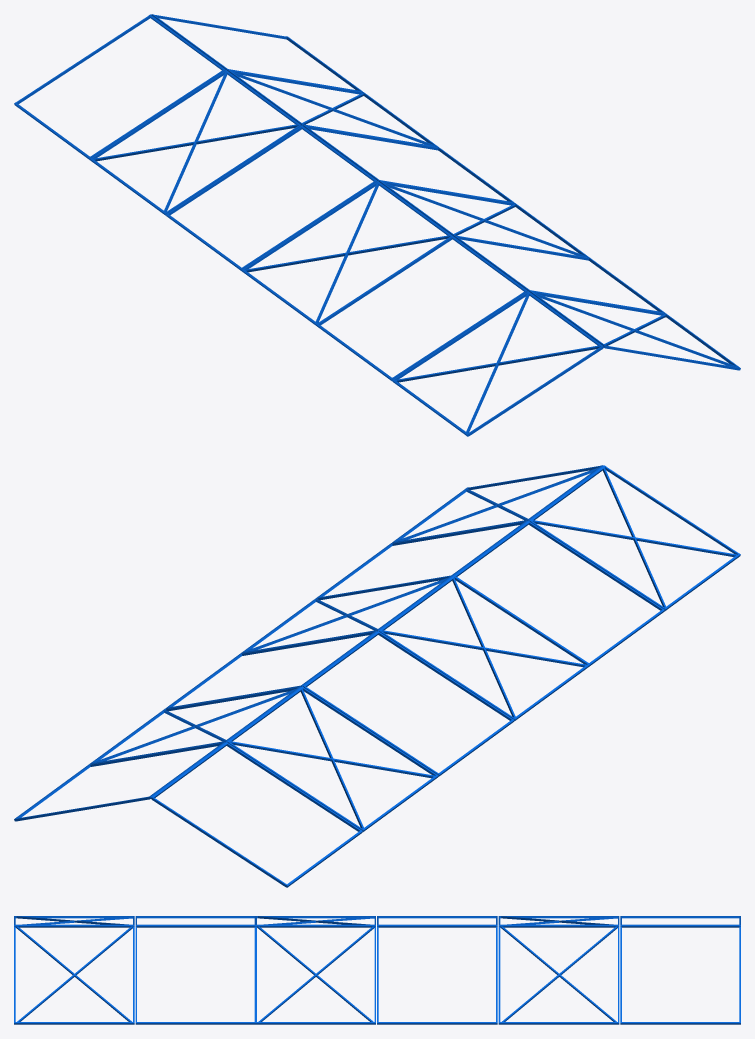
Rendered from F_01_Roof_Metal_01.fbx.
3 views of the same model, one above another, from view 1: azimuth 30°, elevation 25°; view 2: azimuth 150°, elevation 25°; view 3: azimuth 270°, elevation 25° (orthographic). The views are drawn at different scales.
Visible parts, largest first — view 1: F_01_Roof_Metal_01; view 2: F_01_Roof_Metal_01; view 3: F_01_Roof_Metal_01.
Part boxes in pixels (box(x1,y1,x2,y2)): F_01_Roof_Metal_01: box(14, 14, 740, 436); F_01_Roof_Metal_01: box(14, 465, 740, 887); F_01_Roof_Metal_01: box(14, 916, 740, 1024).
Size of the model in its own units: 1875 by 381 by 5373.
